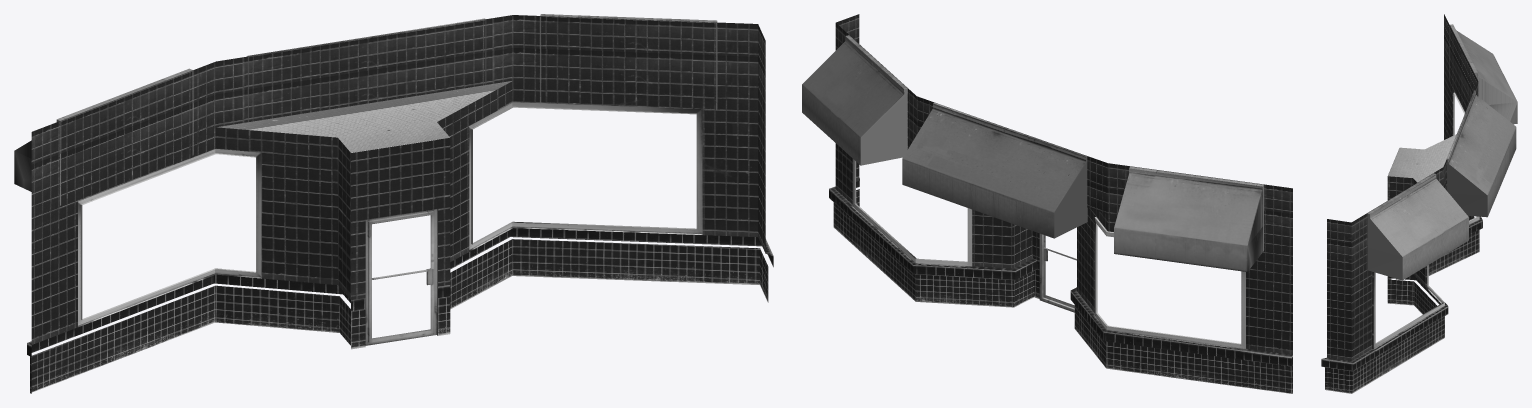
File: ginseng_tea_room.fbx
The picture shows the model from 3 angles, left to right: view 1: azimuth 30°, elevation 25°; view 2: azimuth 150°, elevation 25°; view 3: azimuth 270°, elevation 25°; orthographic projection. The views are drawn at different scales.
Parts seen in each view (by area): view 1: ginseng_tea_room; view 2: ginseng_tea_room; view 3: ginseng_tea_room.
Boxes of the visible parts, x1=… form: ginseng_tea_room: x1=14, y1=14, x2=773, y2=393; ginseng_tea_room: x1=802, y1=14, x2=1292, y2=393; ginseng_tea_room: x1=1321, y1=14, x2=1517, y2=393.
Bounding box in the file's own units: 1385 × 523 × 545.
